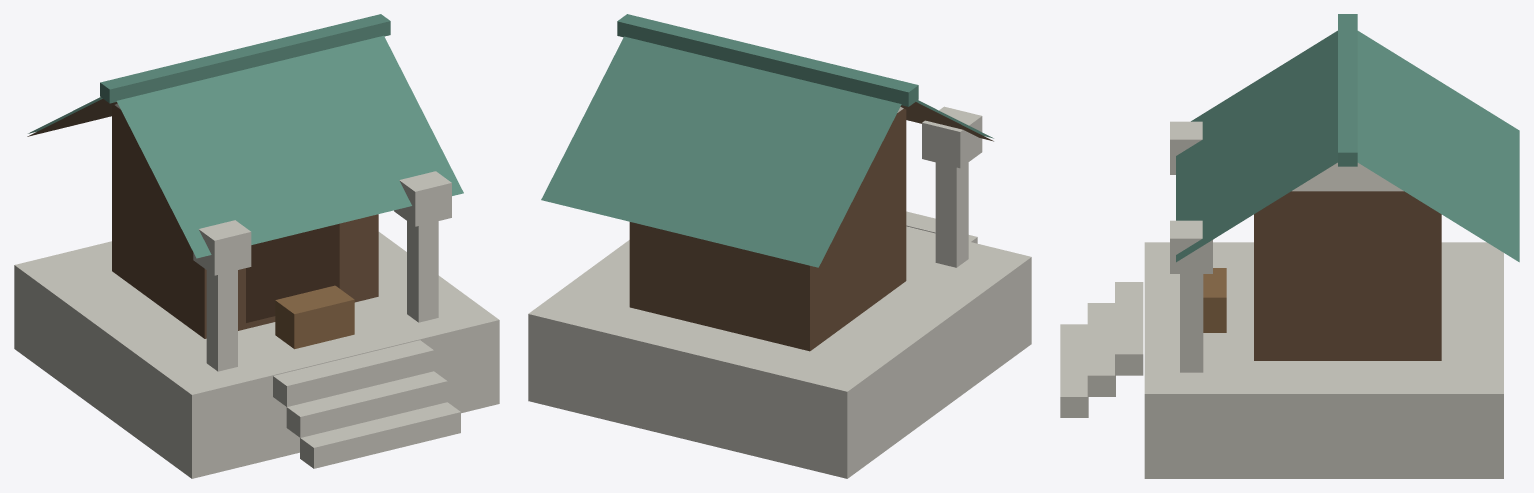
File: shrine.glb
3 renders of one model, left to right at view 1: azimuth 30°, elevation 25°; view 2: azimuth 150°, elevation 25°; view 3: azimuth 270°, elevation 25°, orthographic. The views are drawn at different scales.
Visible parts, largest first — view 1: shrine; view 2: shrine; view 3: shrine.
Boxes of the visible parts, left/top/right/bottom form: shrine: left=14, top=14, right=499, bottom=478; shrine: left=528, top=14, right=1031, bottom=478; shrine: left=1060, top=14, right=1519, bottom=478.
Size of the model in its own units: 4.6 by 4.52 by 5.88.
